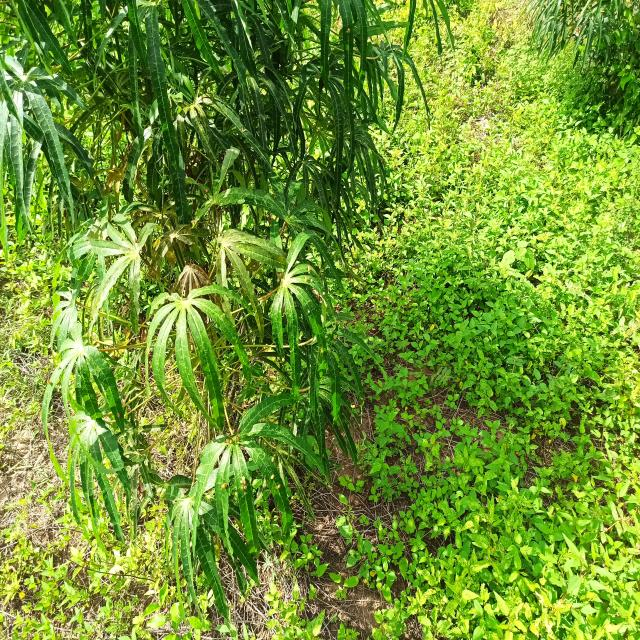Maleza: (393, 421, 604, 640), (419, 112, 639, 276), (378, 254, 568, 430), (515, 296, 640, 556), (10, 544, 155, 629), (494, 551, 640, 631), (449, 0, 529, 144)
Mosca: (267, 473, 284, 490), (238, 474, 249, 498), (302, 264, 312, 283), (218, 481, 230, 494), (304, 307, 317, 319), (346, 403, 358, 411)
